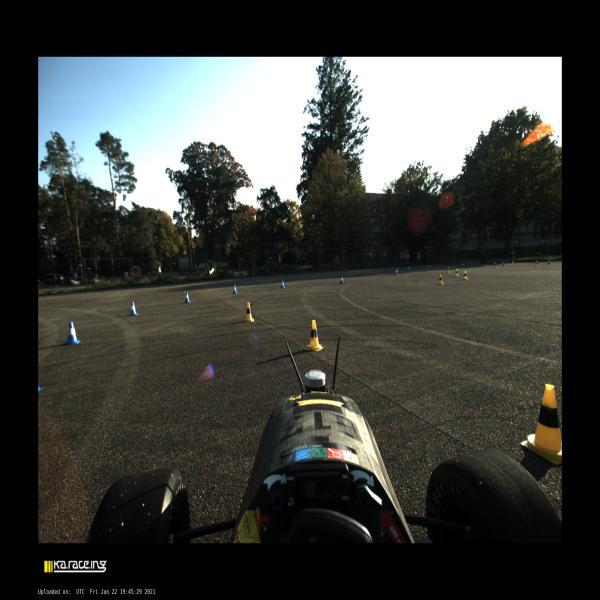blue_cone: (64, 321, 80, 344), (128, 301, 138, 316), (183, 291, 191, 303), (38, 384, 44, 392), (232, 285, 237, 294), (280, 280, 285, 288), (339, 276, 344, 284), (395, 269, 398, 276), (407, 266, 410, 271), (502, 261, 505, 266), (548, 259, 551, 264), (428, 264, 430, 270), (462, 263, 464, 267)
yellow_cone: (521, 384, 561, 464), (306, 320, 323, 351), (244, 302, 254, 322), (438, 274, 444, 284), (463, 270, 468, 280), (454, 268, 459, 276), (535, 260, 539, 267), (493, 262, 497, 268), (447, 267, 450, 273)
